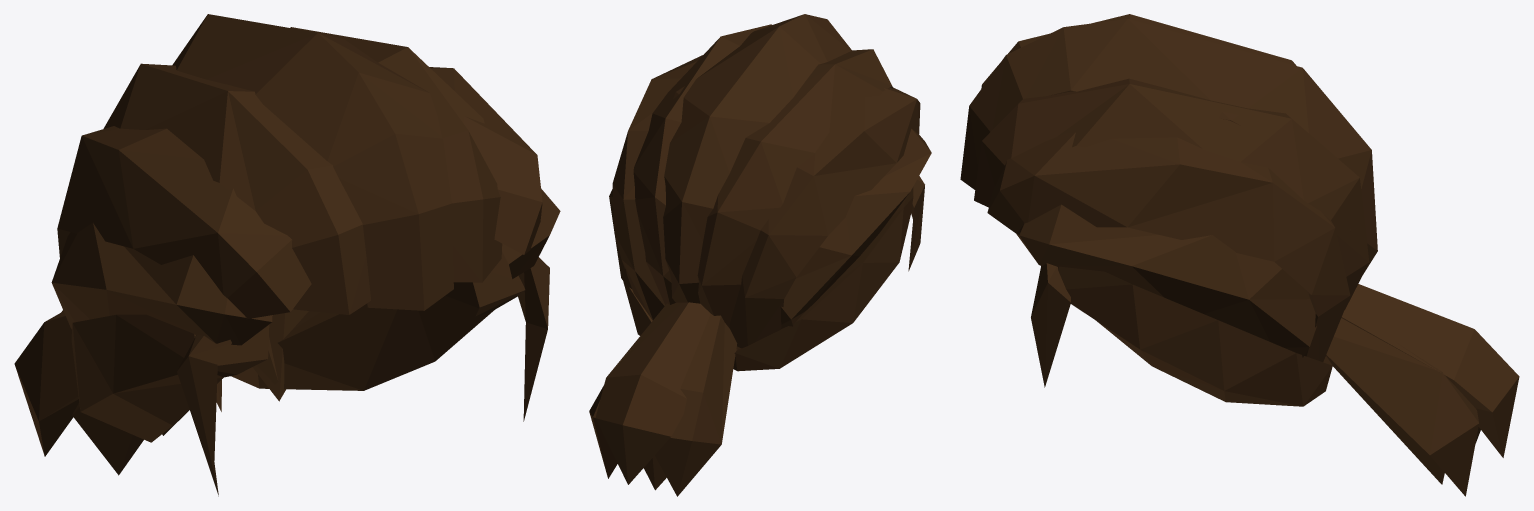
File: hair-ponytail.mid.ad1ed15e.glb
3 renders of one model, left to right at view 1: azimuth 30°, elevation 25°; view 2: azimuth 150°, elevation 25°; view 3: azimuth 270°, elevation 25°, orthographic. The views are drawn at different scales.
Visible parts, largest first — view 1: hair-ponytail; view 2: hair-ponytail; view 3: hair-ponytail.
Part boxes in pixels (left/top/right/bottom): hair-ponytail: left=14, top=14, right=560, bottom=496; hair-ponytail: left=589, top=14, right=931, bottom=496; hair-ponytail: left=960, top=14, right=1519, bottom=496.
Size of the model in its own units: 0.2247 by 0.2999 by 0.3253.
